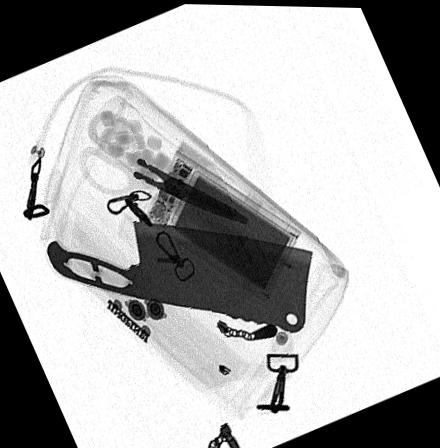Knife: (45, 219, 311, 331)
Powerbank: (143, 148, 300, 298)
Scissors: (79, 111, 248, 225)
